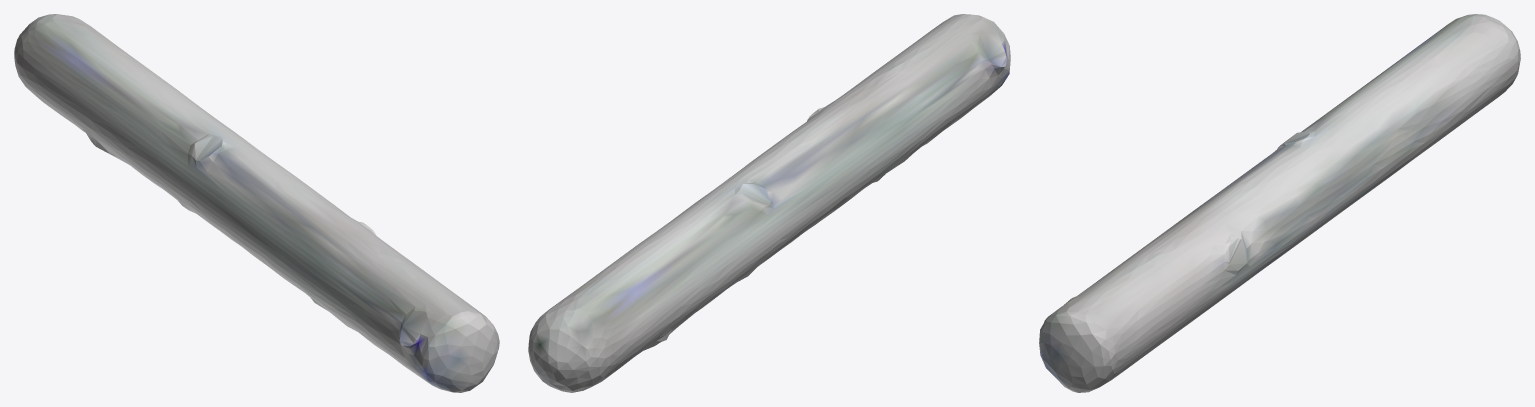
The model's file is scan.obj.
The picture shows the model from 3 angles, left to right: view 1: azimuth 30°, elevation 25°; view 2: azimuth 150°, elevation 25°; view 3: azimuth 330°, elevation 25°; orthographic projection.
Visible parts, largest first — view 1: scan.ply; view 2: scan.ply; view 3: scan.ply.
Part boxes in pixels (left/top/right/bottom): scan.ply: left=14, top=14, right=499, bottom=392; scan.ply: left=528, top=14, right=1010, bottom=392; scan.ply: left=1039, top=14, right=1520, bottom=392.
Bounding box in the file's own units: 0.017 × 0.0166 × 0.1502.
